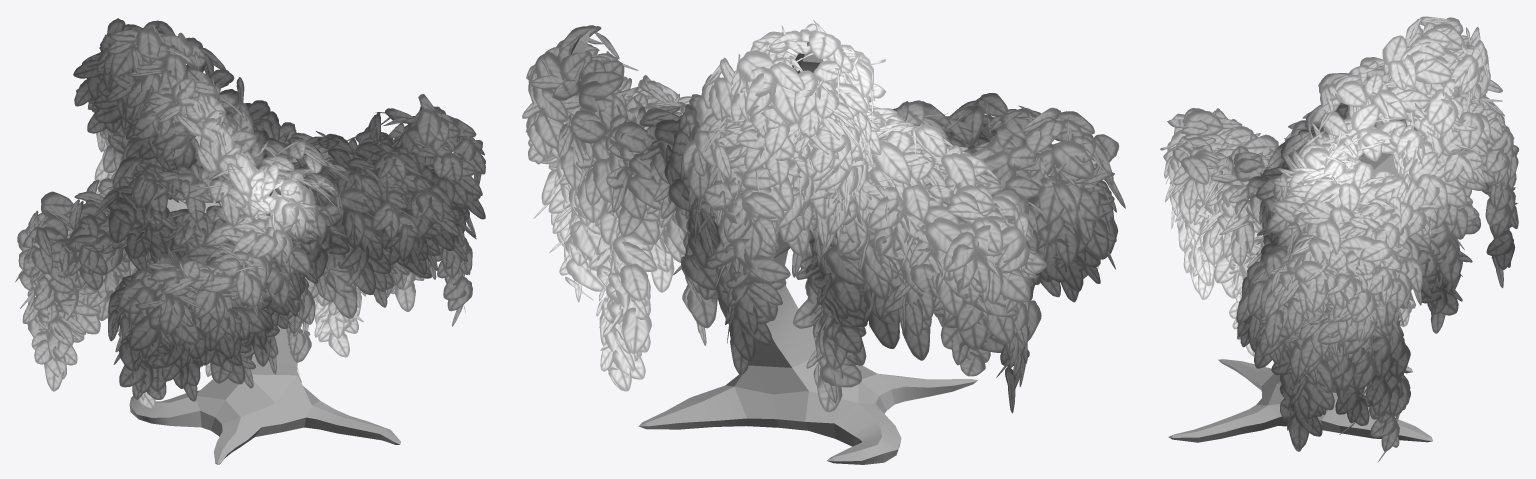
The model's file is Wysteria Low Poly.fbx.
3 renders of one model, left to right at view 1: azimuth 30°, elevation 25°; view 2: azimuth 150°, elevation 25°; view 3: azimuth 270°, elevation 25°, orthographic. The views are drawn at different scales.
Visible parts, largest first — view 1: Leaves, Wysteria_Low_Poly; view 2: Leaves, Wysteria_Low_Poly; view 3: Leaves, Wysteria_Low_Poly.
Part boxes in pixels (<box>): Leaves: <box>15,18,485,409</box>; Wysteria_Low_Poly: <box>129,45,428,464</box>; Leaves: <box>522,20,1125,413</box>; Wysteria_Low_Poly: <box>561,29,1096,464</box>; Leaves: <box>1160,16,1519,462</box>; Wysteria_Low_Poly: <box>1168,27,1436,442</box>.
Size of the model in its own units: 27.67 by 21.73 by 19.68.
